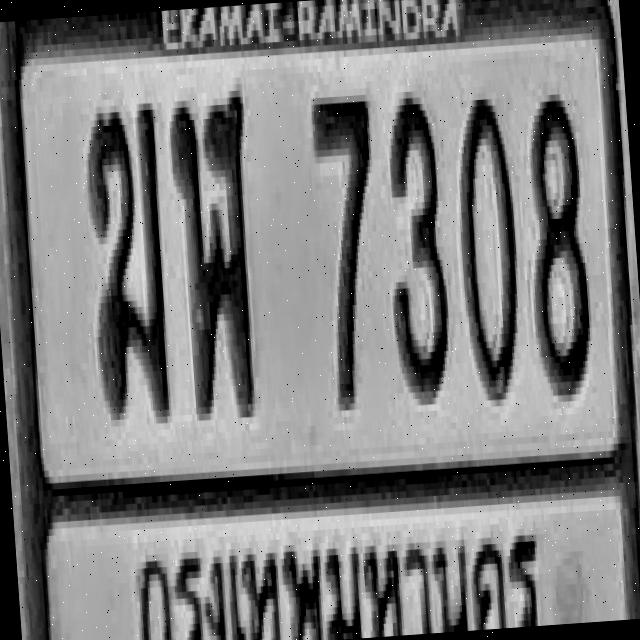0: (451, 91, 526, 401)
15KhorRaKhang: (82, 100, 174, 418)
3: (378, 90, 453, 400)
51LorChula: (169, 86, 264, 418)
7: (310, 91, 388, 408)
8: (520, 86, 594, 396)
Bangkok: (126, 496, 555, 640)
